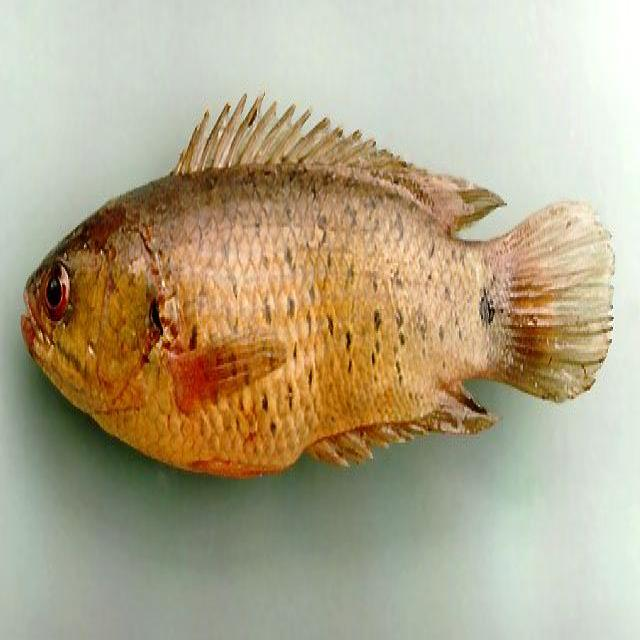Climbing-Perch: (11, 46, 624, 512)
